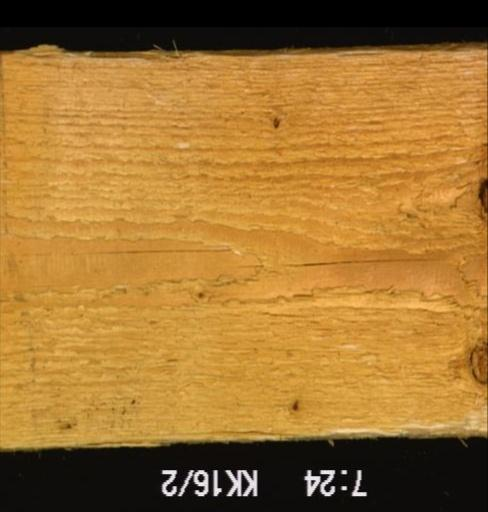small_knot: (270, 113, 282, 135), (284, 399, 301, 412)
split: (231, 244, 486, 273), (0, 242, 242, 264), (84, 416, 282, 441)
wave: (20, 35, 181, 72), (318, 416, 485, 438)
